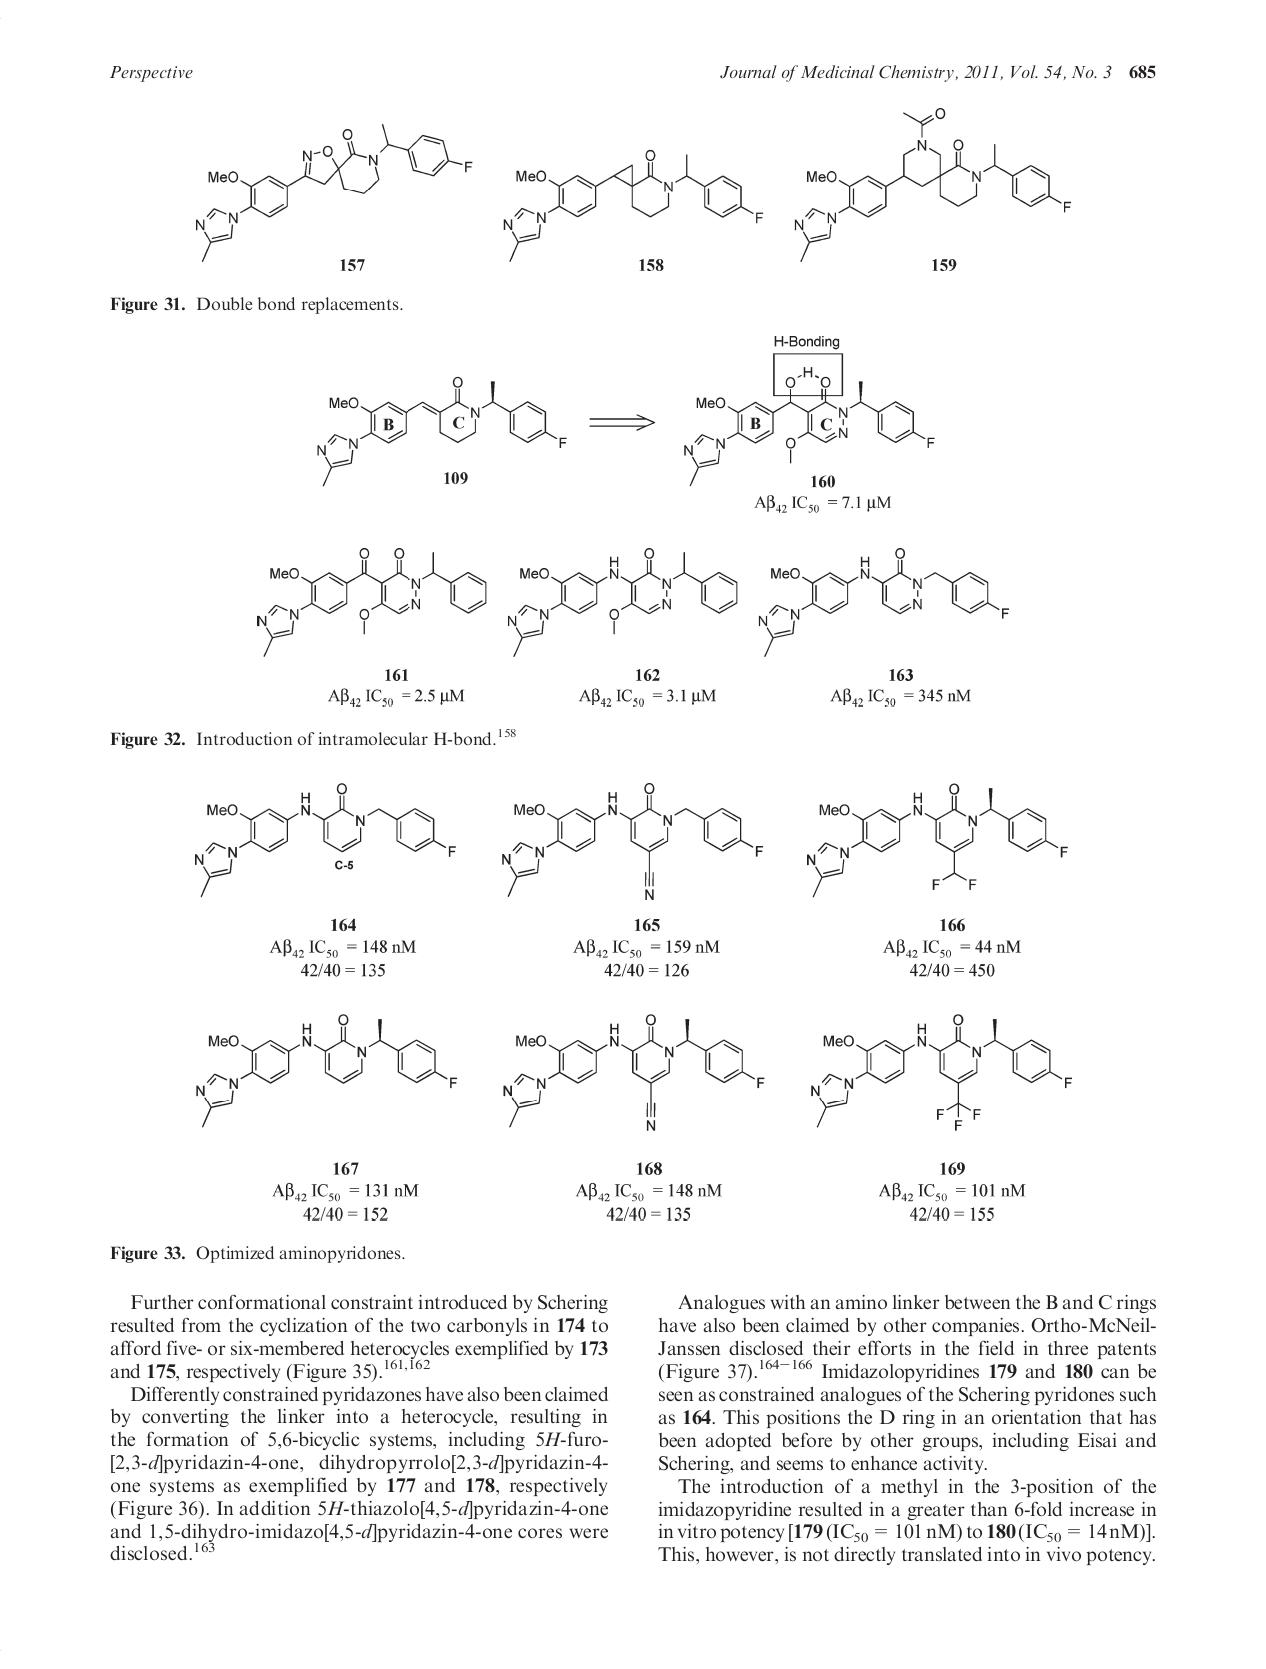exist_molecular: (793, 106, 1075, 263), (189, 122, 476, 263), (673, 363, 940, 489), (805, 1009, 1076, 1133), (499, 779, 766, 902), (499, 1012, 767, 1133), (797, 779, 1071, 898), (496, 146, 765, 266), (191, 779, 457, 896), (191, 1013, 459, 1128), (313, 374, 572, 485), (755, 547, 1016, 657), (251, 543, 489, 657), (505, 547, 745, 657)
